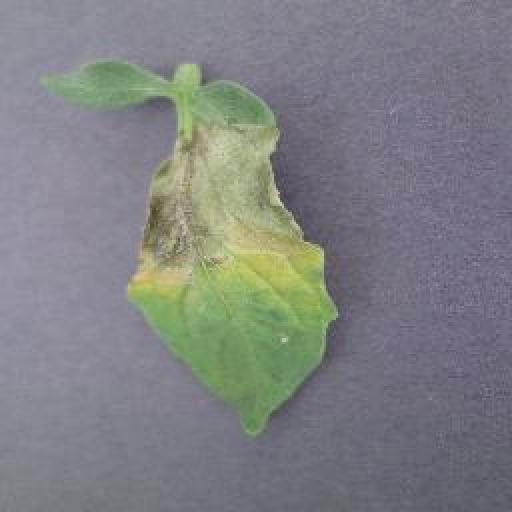disease_tomato: (35, 56, 341, 444)
